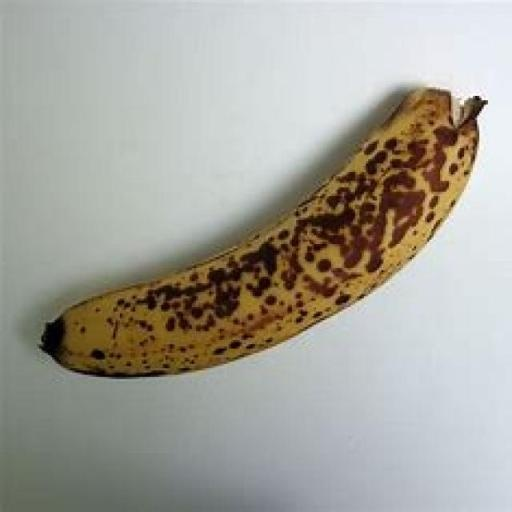fruit: (42, 89, 484, 375)
